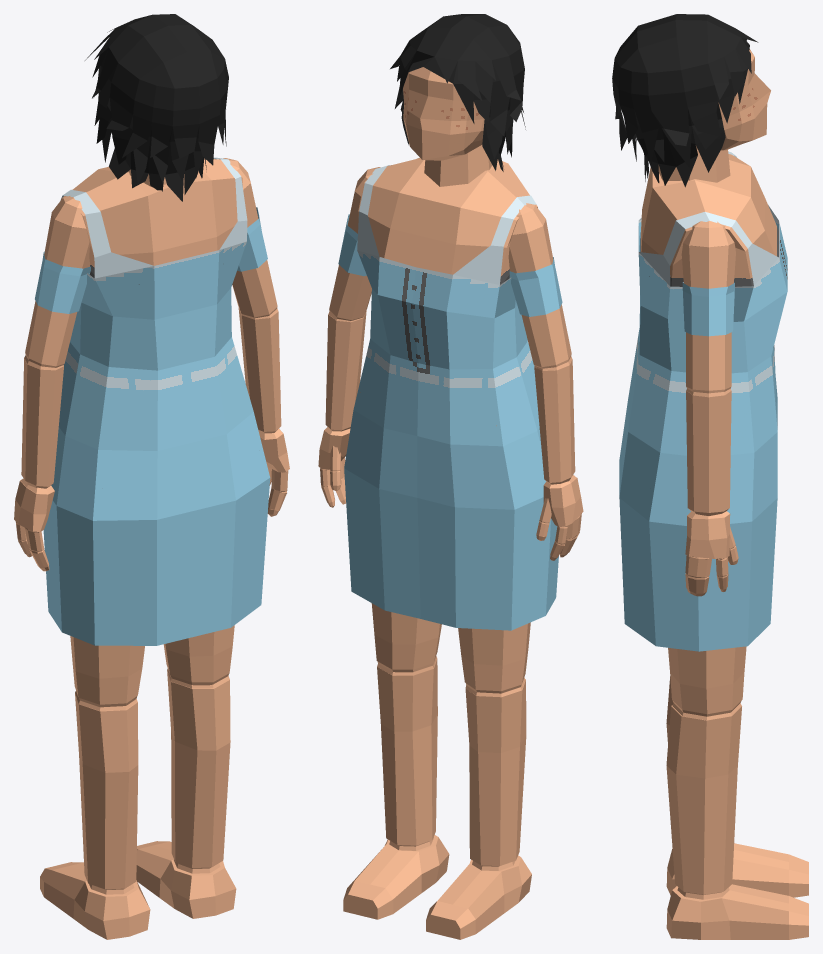
File: Naomi.gltf
3 views of the same model, side by side, from view 1: azimuth 30°, elevation 25°; view 2: azimuth 150°, elevation 25°; view 3: azimuth 270°, elevation 25° (orthographic). The views are drawn at different scales.
Parts seen in each view (by area): view 1: Dress (×3), Hair, Torso, Right Lower Leg, Left Lower Leg, Left Foot, Right Foot, Left Lower Arm, Left Upper Arm, Left Upper Leg, Right Lower Arm, Right Upper Leg (+3 smaller); view 2: Dress (×3), Torso, Hair, Right Lower Leg, Left Lower Leg, Head, Right Foot, Left Foot, Left Upper Leg, Left Lower Arm, Left Upper Arm, Right Lower Arm (+5 smaller); view 3: Dress (×2), Hair, Right Lower Leg, Torso, Right Foot, Right Lower Arm, Right Upper Arm, Right Upper Leg, Left Foot, Head, Palm, Neck (+2 smaller).
Part boxes in pixels (box(x1,y1,x2,y2)): Dress (×3): box(35, 157, 270, 645); Hair: box(85, 14, 228, 201); Torso: box(61, 158, 242, 284); Right Lower Leg: box(167, 670, 230, 867); Left Lower Leg: box(75, 693, 138, 889); Left Foot: box(40, 862, 150, 939); Right Foot: box(136, 841, 236, 918); Left Lower Arm: box(21, 358, 63, 486); Left Upper Arm: box(25, 212, 89, 366); Left Upper Leg: box(70, 636, 144, 704); Right Lower Arm: box(238, 308, 281, 431); Right Upper Leg: box(163, 625, 234, 682); Dress (×3): box(338, 165, 562, 630); Torso: box(358, 157, 537, 425); Hair: box(390, 14, 525, 171); Right Lower Leg: box(377, 658, 437, 845); Left Lower Leg: box(465, 679, 526, 865); Head: box(403, 67, 484, 160); Right Foot: box(343, 835, 449, 919); Left Foot: box(426, 855, 531, 939); Left Upper Leg: box(458, 622, 530, 691); Left Lower Arm: box(534, 359, 575, 482); Left Upper Arm: box(508, 220, 571, 367); Right Lower Arm: box(325, 311, 366, 430); Dress (×2): box(619, 151, 787, 651); Hair: box(612, 14, 758, 187); Right Lower Leg: box(666, 705, 741, 894); Torso: box(640, 154, 778, 286); Right Foot: box(666, 884, 808, 939); Right Lower Arm: box(686, 391, 731, 512); Right Upper Arm: box(681, 242, 735, 390); Right Upper Leg: box(668, 646, 746, 714); Left Foot: box(666, 843, 808, 897); Head: box(695, 49, 770, 150); Palm: box(685, 514, 730, 558); Neck: box(658, 149, 730, 182).
Size of the model in its own units: 0.2655 by 0.872 by 0.1752.
6 materials, 6 textured.
